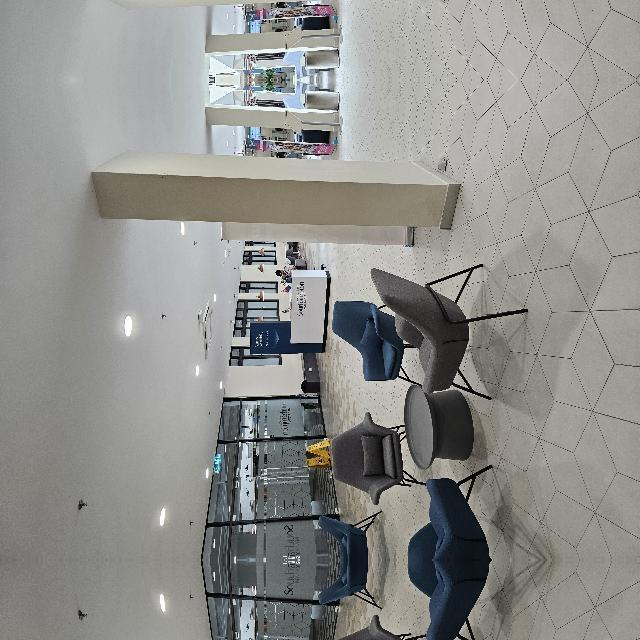obstacle: (163, 403, 295, 601), (163, 519, 295, 640), (0, 474, 90, 574), (0, 546, 90, 640), (58, 410, 152, 484), (90, 488, 168, 556), (90, 564, 168, 632), (57, 636, 152, 640)
